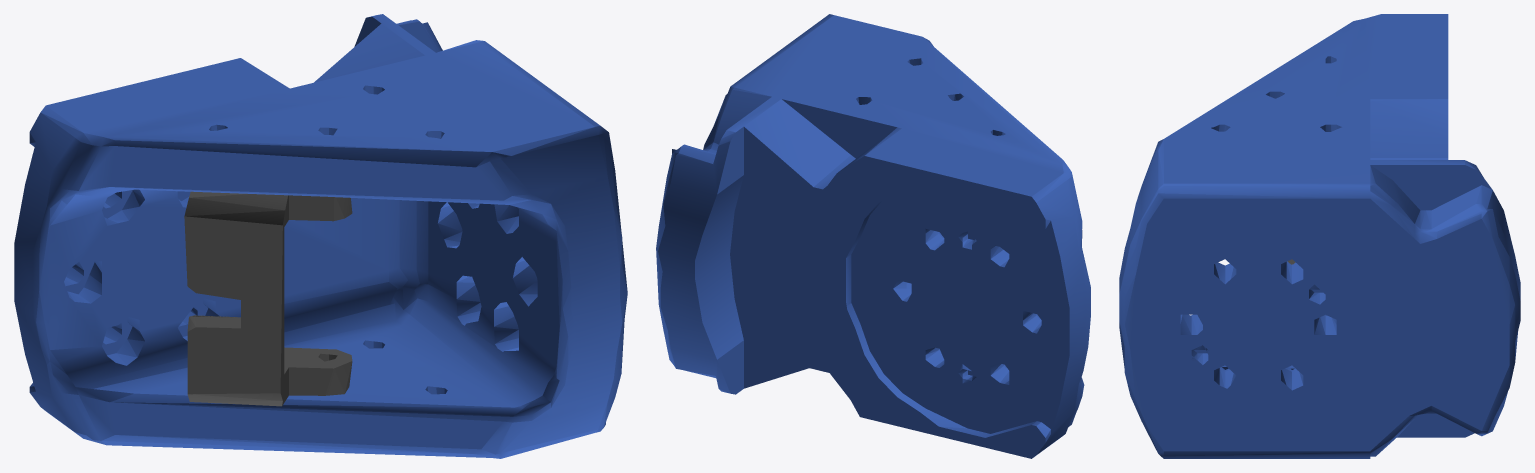
File: left_shoulder_roll.obj
The picture shows the model from 3 angles, left to right: view 1: azimuth 30°, elevation 25°; view 2: azimuth 150°, elevation 25°; view 3: azimuth 270°, elevation 25°; orthographic projection. The views are drawn at different scales.
Parts seen in each view (by area): view 1: N16_23_P02_01_Link_Shoulder_End, N16_23_P02_03_Shoulder_Cable_Routing; view 2: N16_23_P02_01_Link_Shoulder_End; view 3: N16_23_P02_01_Link_Shoulder_End.
Boxes of the visible parts, <box> form: N16_23_P02_01_Link_Shoulder_End: <box>14,14,627,458</box>; N16_23_P02_03_Shoulder_Cable_Routing: <box>184,191,352,406</box>; N16_23_P02_01_Link_Shoulder_End: <box>656,14,1090,458</box>; N16_23_P02_01_Link_Shoulder_End: <box>1119,14,1520,458</box>.
Size of the model in its own units: 0.081 by 0.054 by 0.072.
